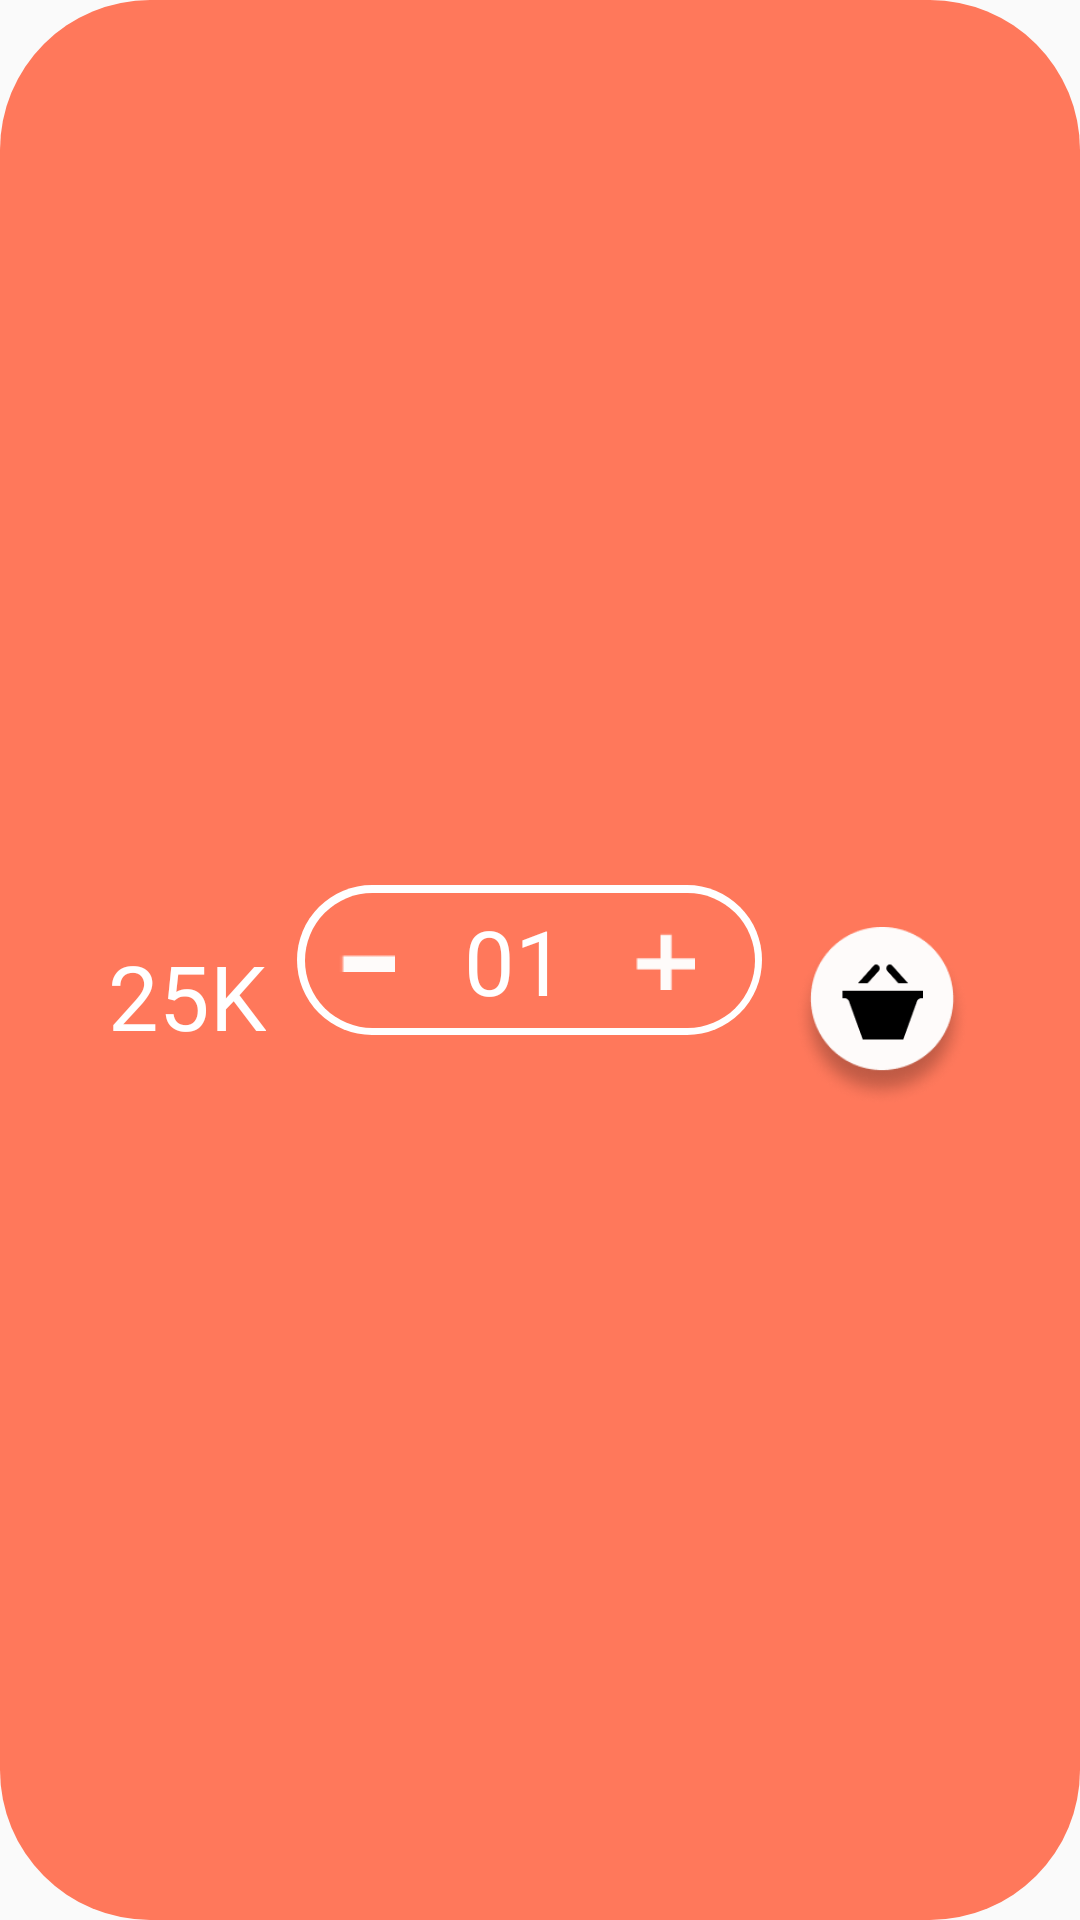

Named icons in this screenshot (1080px×1920px) and their centers, (x,y):
iconmonstr basket: (882,1017)
plus: (665,962)
subtraction: (368,963)
